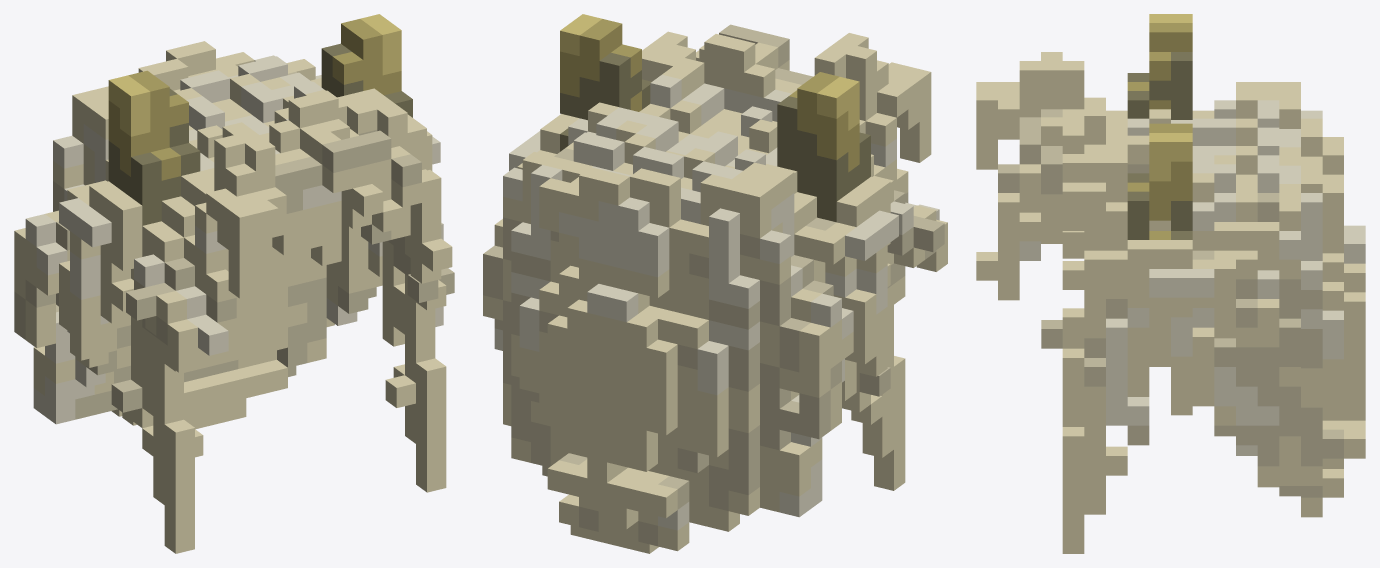
Rendered from tomoda_male_hair.glb.
3 views of the same model, side by side, from view 1: azimuth 30°, elevation 25°; view 2: azimuth 150°, elevation 25°; view 3: azimuth 270°, elevation 25° (orthographic). The views are drawn at different scales.
Parts seen in each view (by area): view 1: Model.001; view 2: Model.001; view 3: Model.001.
Boxes of the visible parts, x1,y1,x2,y2 form: Model.001: [14, 14, 454, 553]; Model.001: [483, 14, 947, 553]; Model.001: [976, 14, 1365, 553].
Bounding box in the file's own units: 0.774 × 0.903 × 0.774.
1 material, 1 textured.
